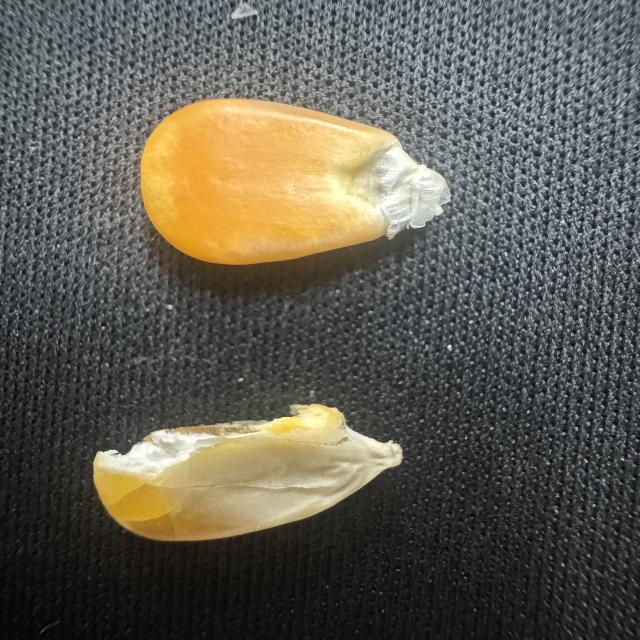Bad-Seed: (72, 397, 414, 551)
Good-Seed: (132, 86, 462, 294)
